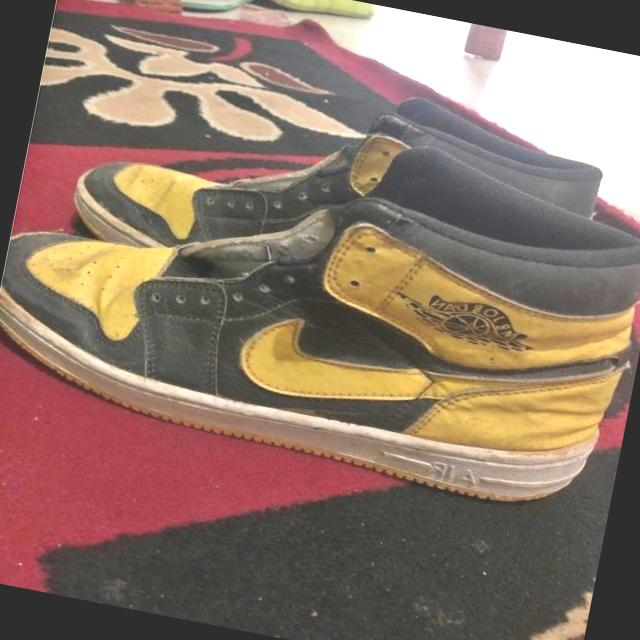nike_fake_jordan: (0, 72, 640, 523), (60, 34, 614, 328)
